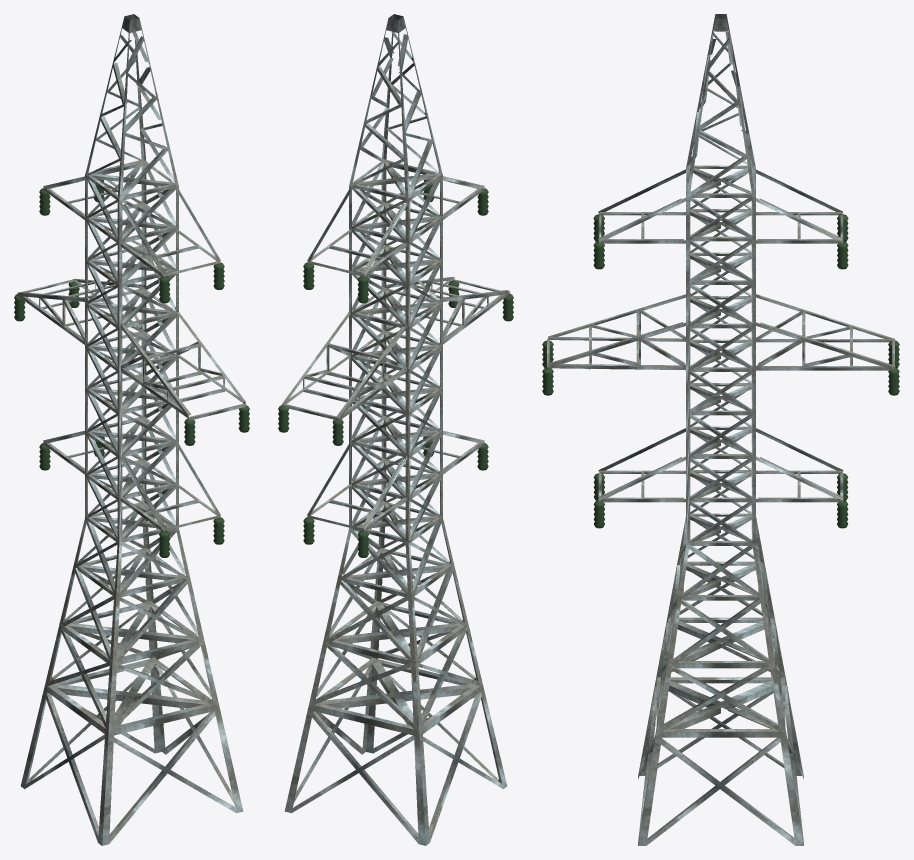
The model's file is Power Grid Line.fbx.
The picture shows the model from 3 angles, left to right: view 1: azimuth 30°, elevation 25°; view 2: azimuth 150°, elevation 25°; view 3: azimuth 270°, elevation 25°; orthographic projection.
Parts seen in each view (by area): view 1: Cube; view 2: Cube; view 3: Cube.
Part boxes in pixels (left/top/right/bottom): Cube: left=14, top=14, right=249, bottom=845; Cube: left=278, top=14, right=513, bottom=845; Cube: left=542, top=14, right=899, bottom=845.
Size of the model in its own units: 994 by 5259 by 2143.
2 materials, 1 textured.
